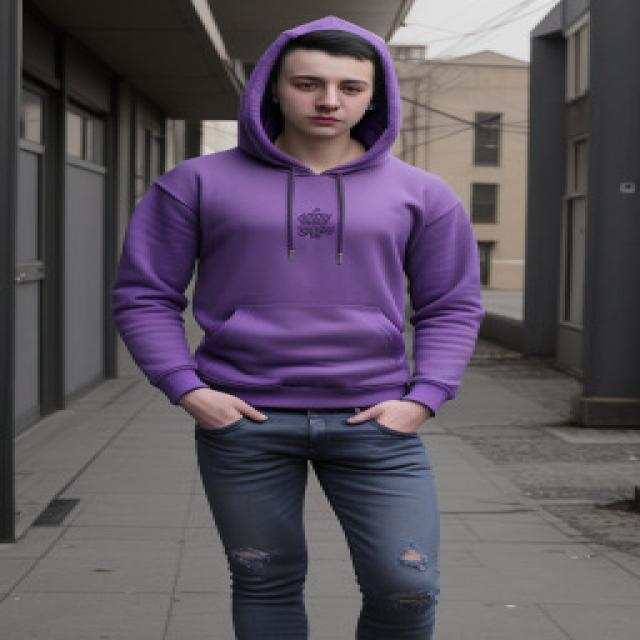Ai human 2: (105, 15, 510, 640)
